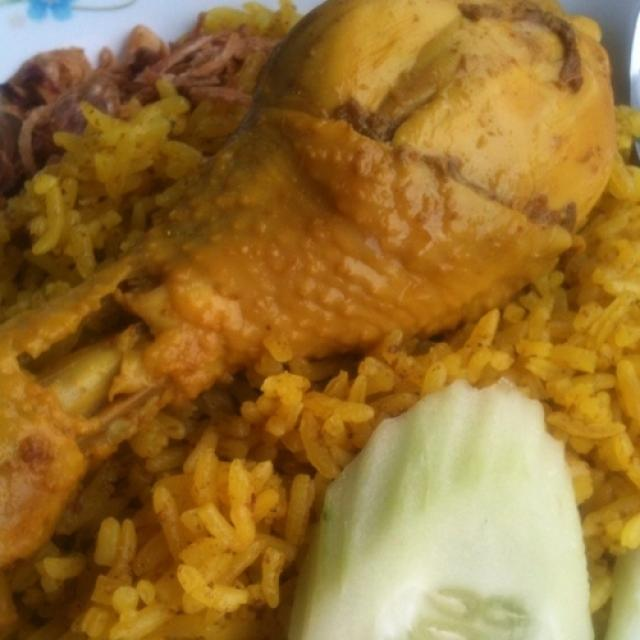米饭主食: (11, 21, 626, 618)
